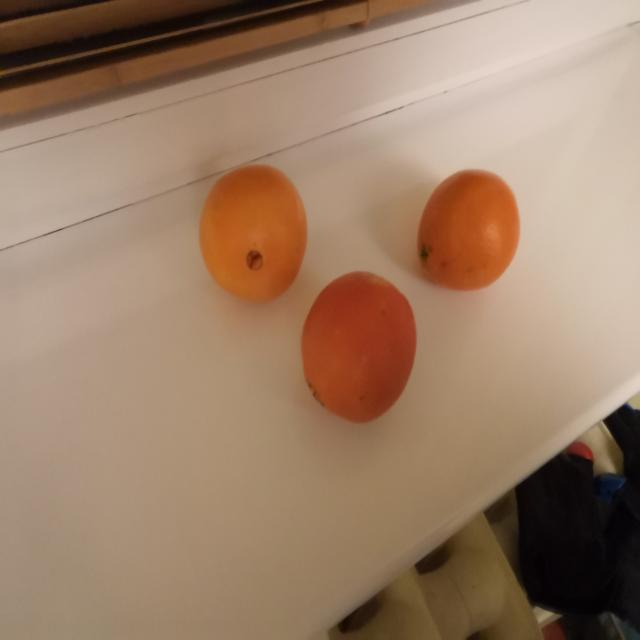orange: (301, 272, 416, 422), (199, 165, 308, 302), (418, 170, 520, 290)
